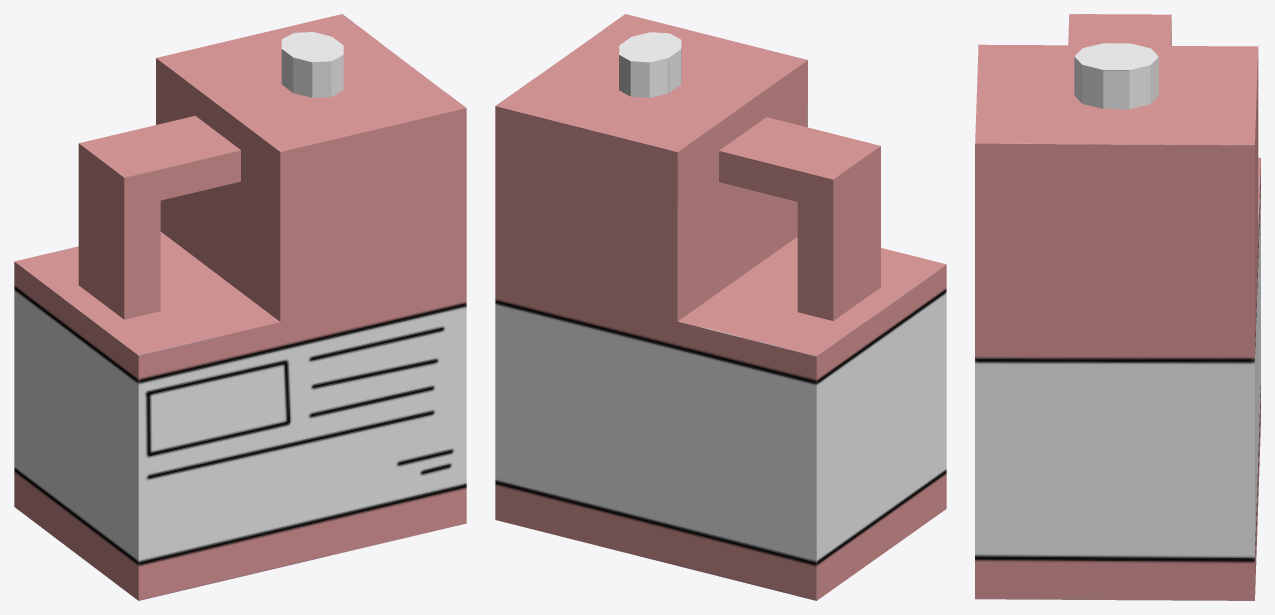
File: product_1_Model.fbx
The picture shows the model from 3 angles, left to right: view 1: azimuth 30°, elevation 25°; view 2: azimuth 150°, elevation 25°; view 3: azimuth 270°, elevation 25°; orthographic projection. The views are drawn at different scales.
Visible parts, largest first — view 1: prodotto_1; view 2: prodotto_1; view 3: prodotto_1.
Part boxes in pixels (x1,y1,x2,y2): prodotto_1: (14, 14, 466, 600); prodotto_1: (495, 14, 946, 600); prodotto_1: (975, 14, 1260, 600).
Size of the model in its own units: 0.0188 by 0.0247 by 0.0129.
1 material, 1 textured.
